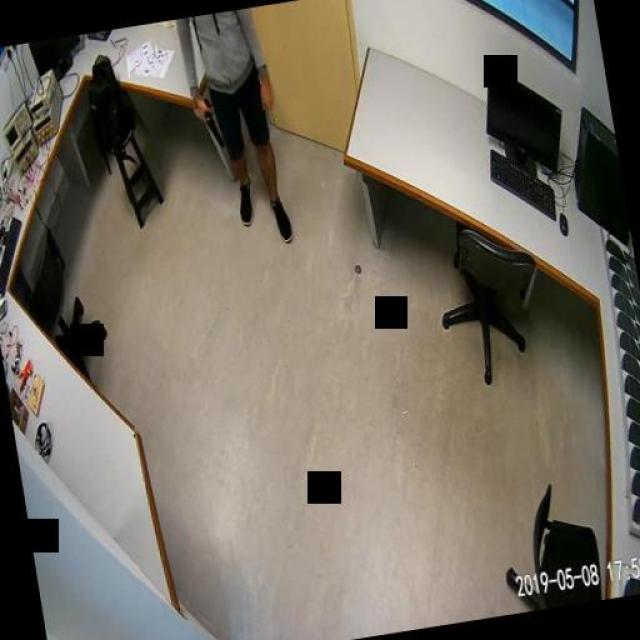gun: (198, 94, 222, 148)
